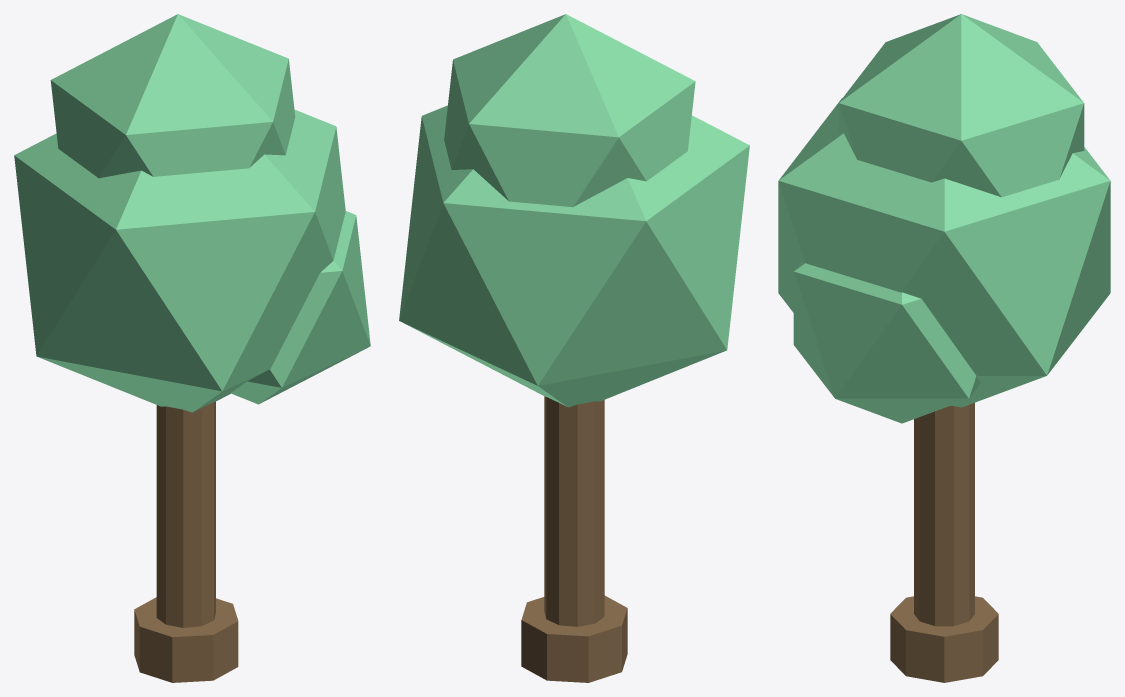
Rendered from tree.glb.
3 renders of one model, left to right at view 1: azimuth 30°, elevation 25°; view 2: azimuth 150°, elevation 25°; view 3: azimuth 270°, elevation 25°, orthographic.
Parts seen in each view (by area): view 1: Tree_Canopy_Main, Tree_Canopy_Top, Tree_Trunk, Tree_Canopy_Side, Tree_RootFlare; view 2: Tree_Canopy_Main, Tree_Canopy_Top, Tree_Trunk, Tree_RootFlare; view 3: Tree_Canopy_Main, Tree_Canopy_Top, Tree_Canopy_Side, Tree_Trunk, Tree_RootFlare.
Part boxes in pixels (x1,y1,x2,y2): Tree_Canopy_Main: (14, 109, 345, 412); Tree_Canopy_Top: (50, 14, 295, 178); Tree_Trunk: (156, 401, 215, 627); Tree_Canopy_Side: (231, 211, 370, 404); Tree_RootFlare: (134, 597, 238, 682); Tree_Canopy_Main: (399, 105, 749, 407); Tree_Canopy_Top: (444, 14, 695, 207); Tree_Trunk: (544, 396, 604, 626); Tree_RootFlare: (521, 595, 627, 682); Tree_Canopy_Main: (778, 98, 1110, 407); Tree_Canopy_Top: (838, 14, 1084, 197); Tree_Canopy_Side: (793, 262, 980, 423); Tree_Trunk: (914, 402, 974, 626); Tree_RootFlare: (890, 596, 998, 682).
Bounding box in the file's own units: 2.06 × 4.2 × 1.96.
